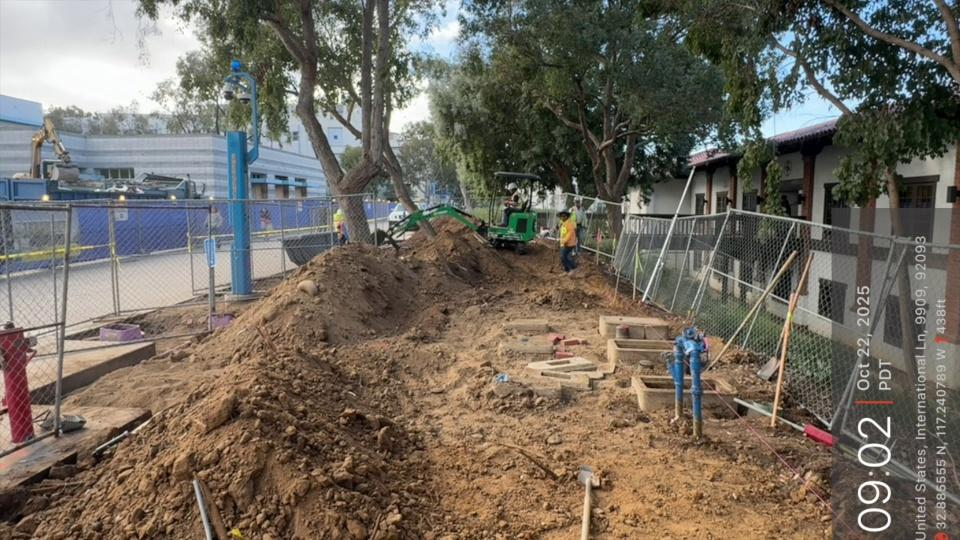Exacavator: (371, 165, 549, 262)
